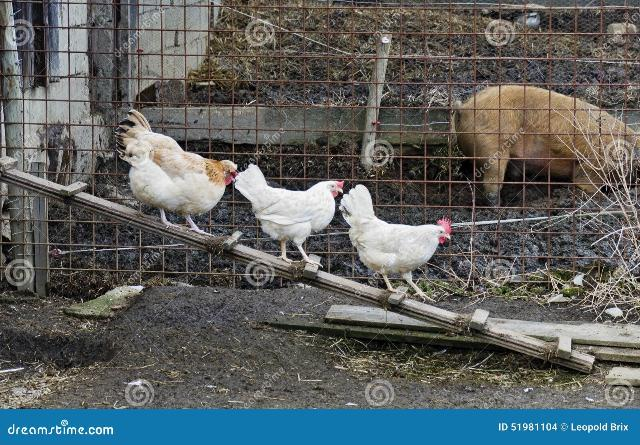Chicken: (115, 108, 236, 238), (339, 183, 450, 301), (235, 163, 343, 268)
